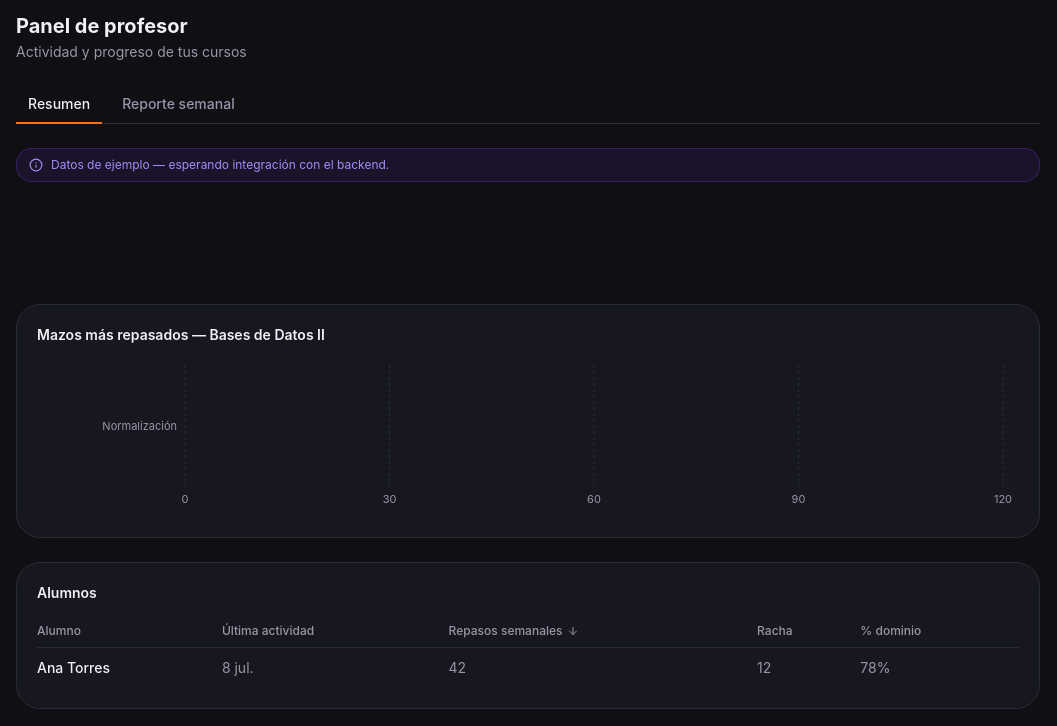
Test: TeacherDashboardPage › tab "Reporte semanal": muestra resumen, comparativa y alumnos en riesgo
Step 1. Click the button "Reporte semanal" → (178, 105), box left=110, top=86, right=247, bottom=124
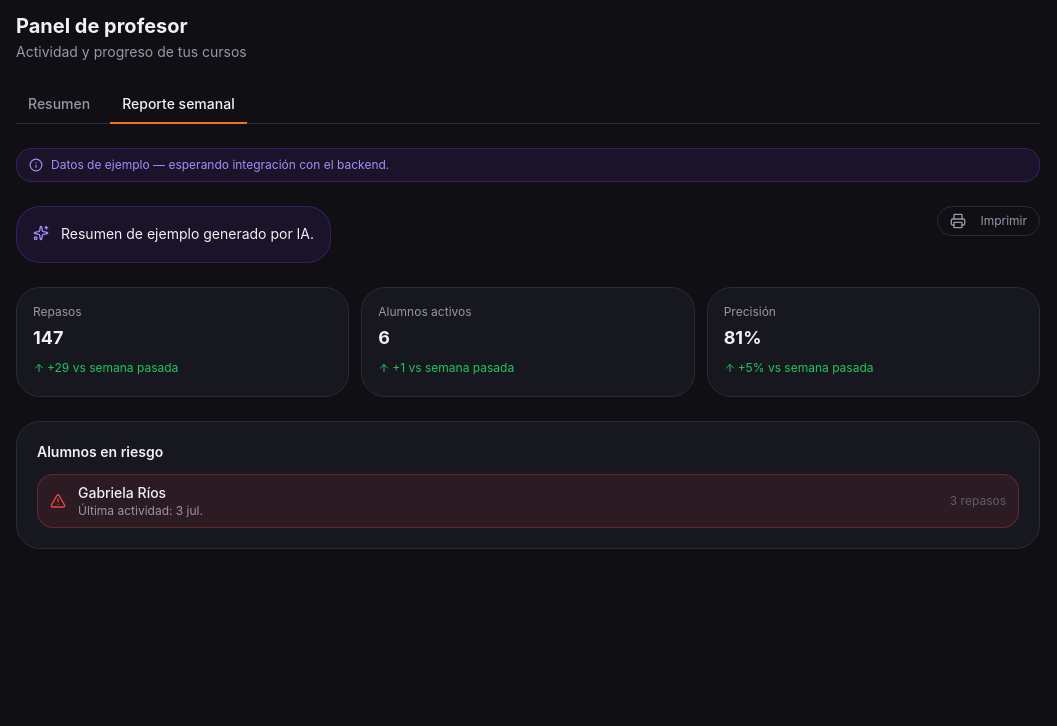
Check: the text "Resumen de ejemplo generado por IA." is shown, box left=61, top=223, right=314, bottom=246
Check: the text "Gabriela Ríos" is shown, box left=78, top=484, right=166, bottom=501
Check: the button "Imprimir" is shown, box left=937, top=206, right=1040, bottom=236
